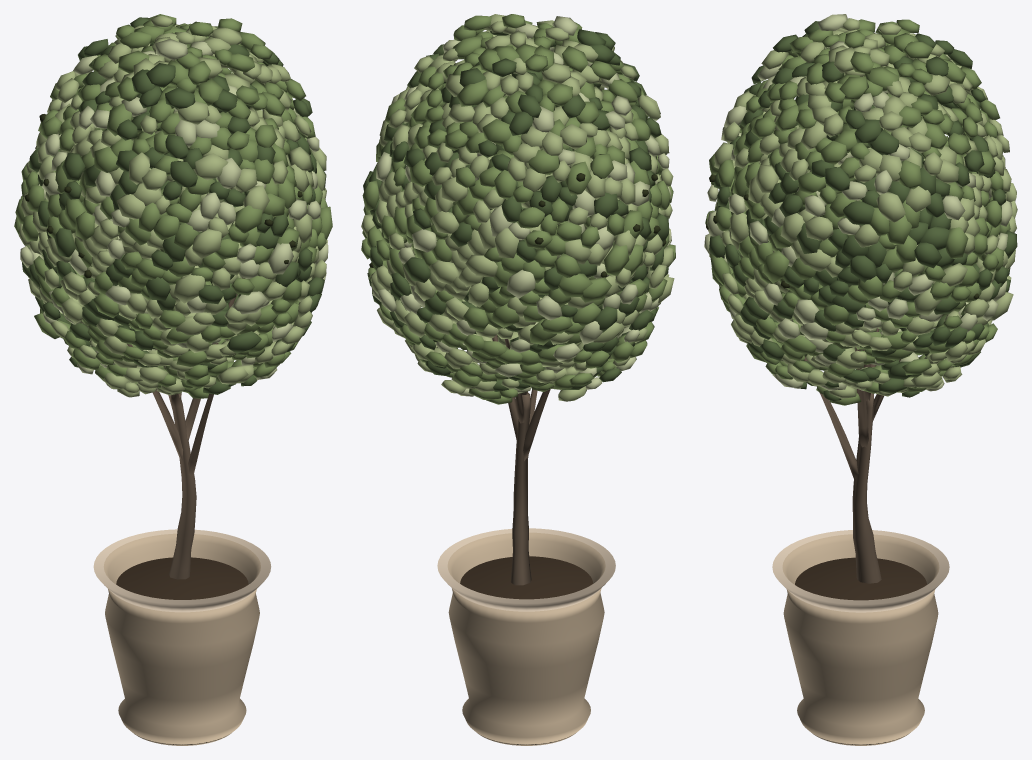
3 renders of one model, left to right at view 1: azimuth 30°, elevation 25°; view 2: azimuth 150°, elevation 25°; view 3: azimuth 270°, elevation 25°, orthographic.
Visible parts, largest first — view 1: F017; view 2: F017; view 3: F017.
Part boxes in pixels (bbox=[...]): F017: bbox=[14, 14, 332, 745]; F017: bbox=[361, 14, 675, 745]; F017: bbox=[704, 14, 1017, 745].
Bounding box in the file's own units: 0.5588 × 1.37 × 0.5588.
